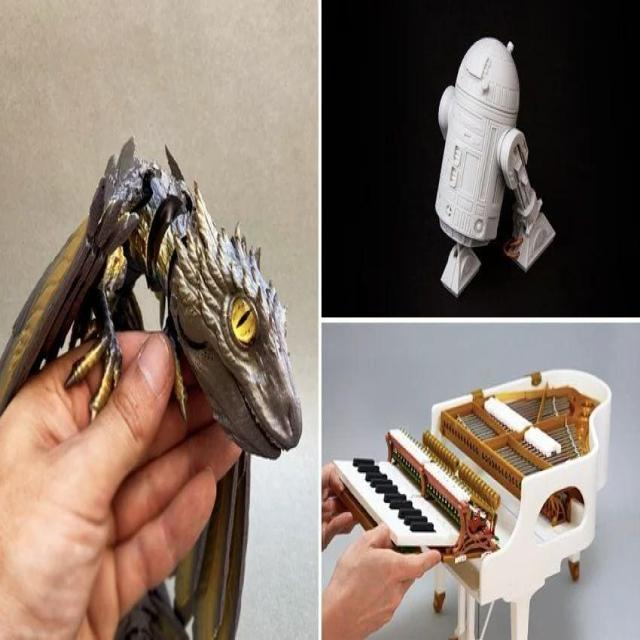Without deffect: (1, 106, 315, 472)
